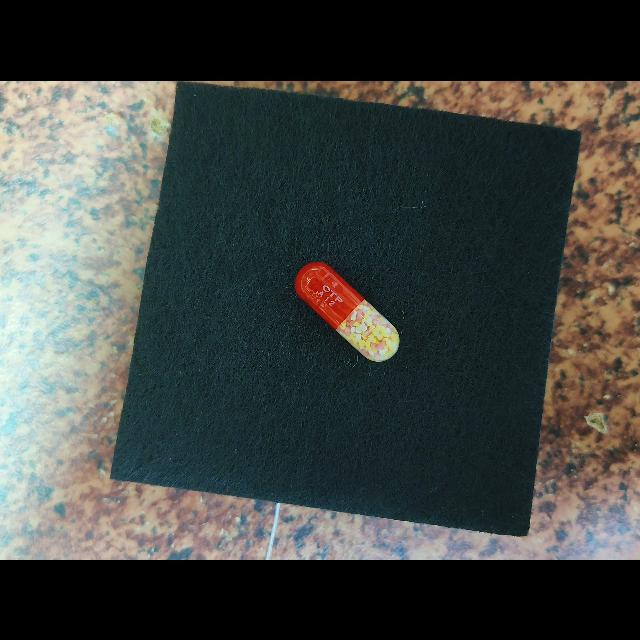Intact Capsule: (295, 261, 399, 361)
